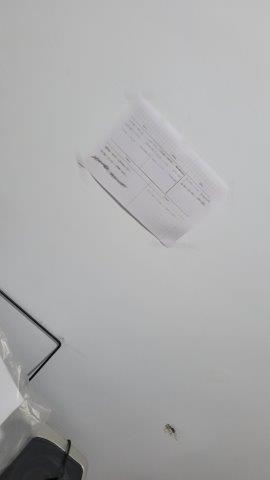kertas: (77, 94, 229, 253)
